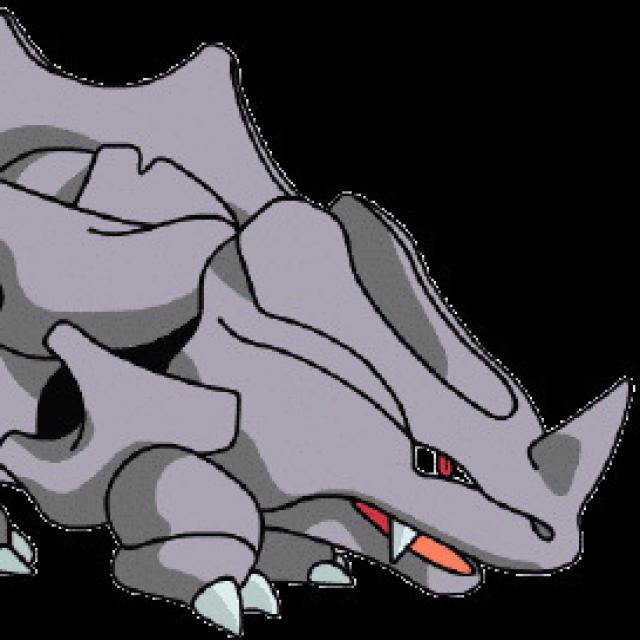Rhyhorn: (0, 15, 624, 640)
